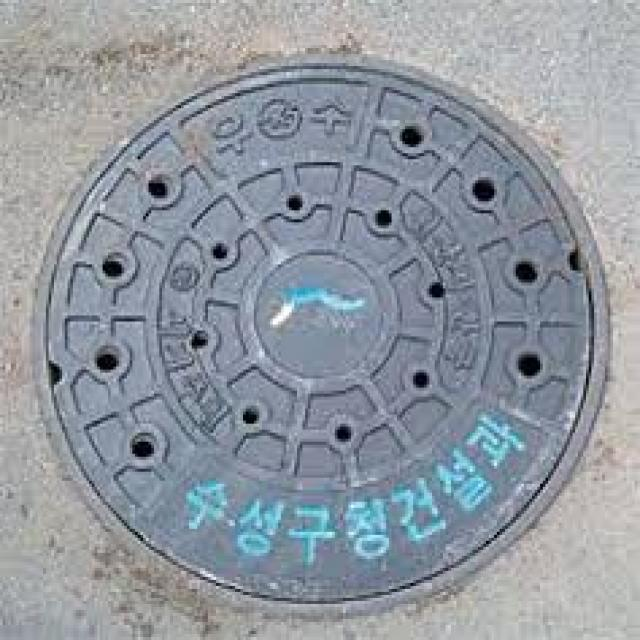manhole: (39, 62, 608, 601)
